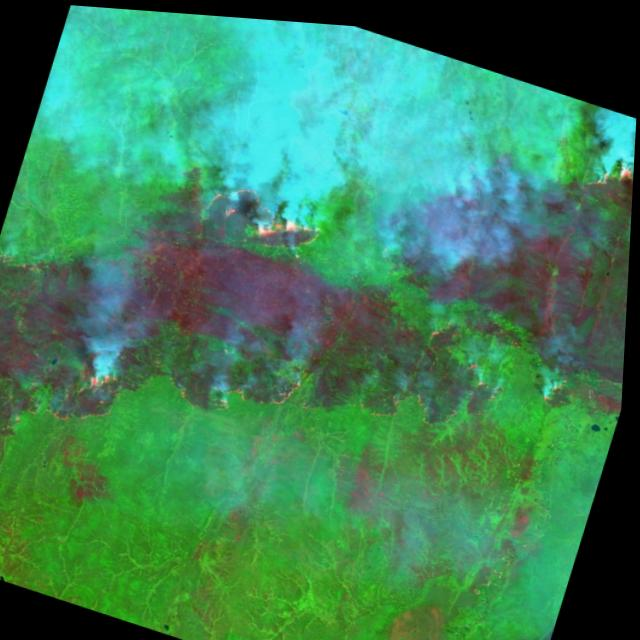fire: (191, 168, 336, 266), (43, 341, 138, 437), (569, 130, 636, 242)
